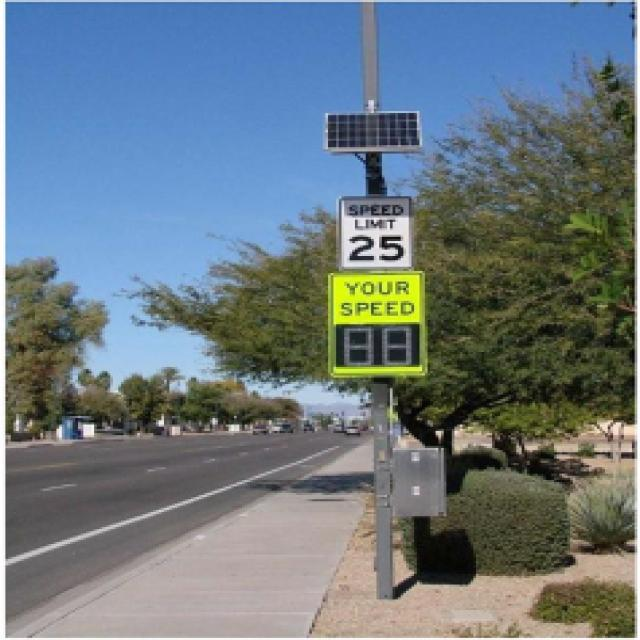Speed Limit Signs: (341, 195, 418, 272)
